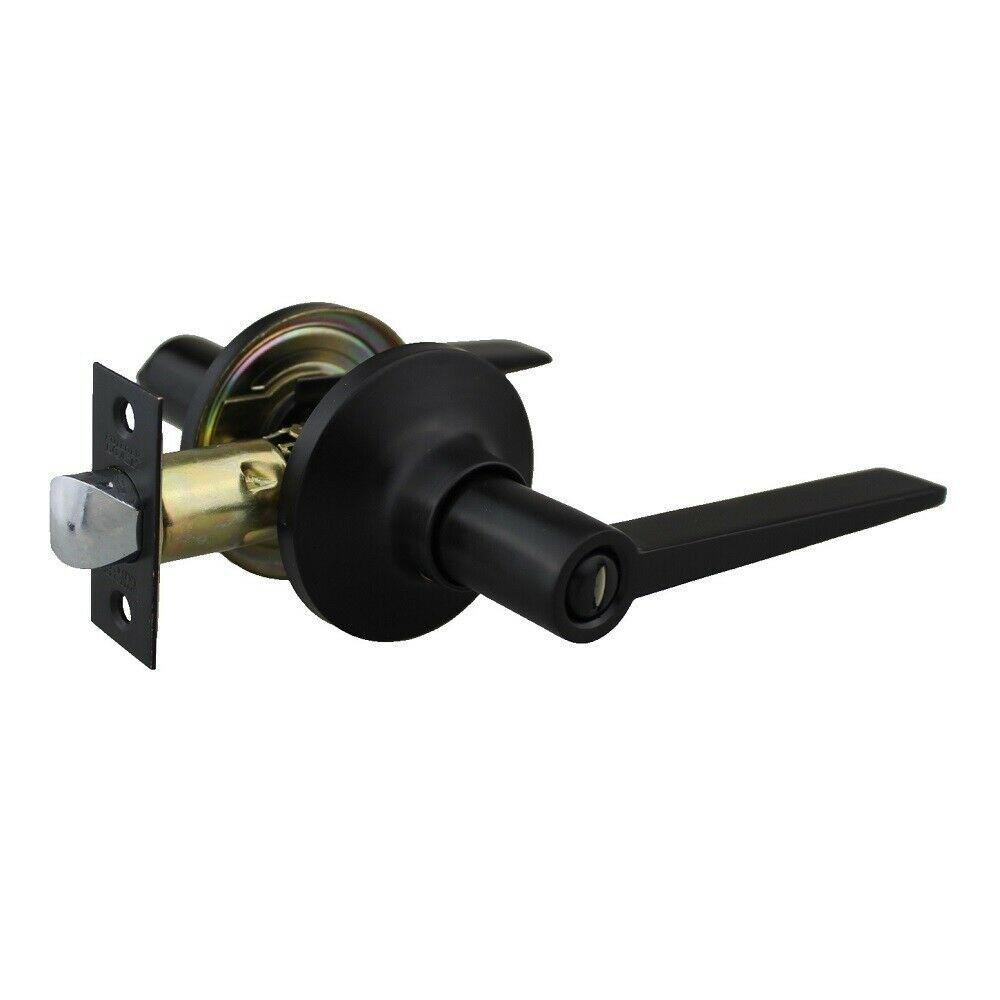doorhandle: (425, 440, 933, 614)
